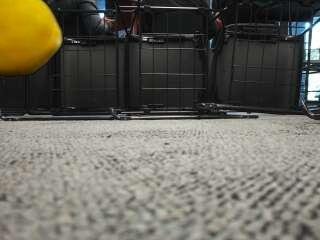lemon: (0, 0, 63, 74)
